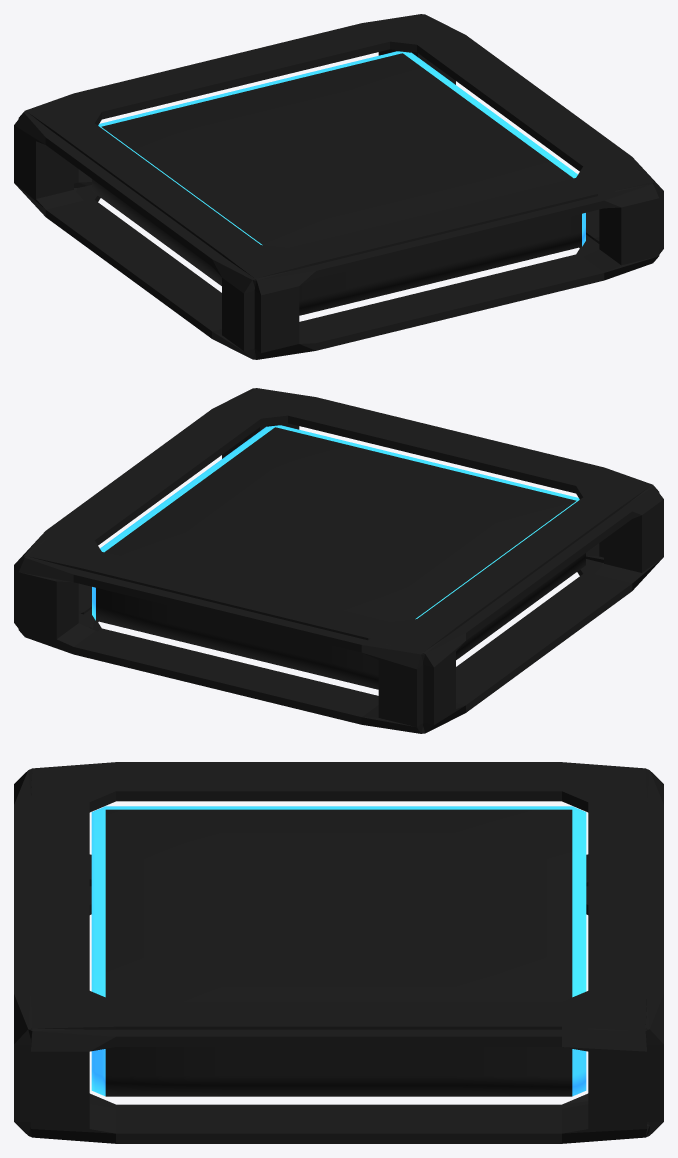
Rendered from black tile.fbx.
3 views of the same model, one above another, from view 1: azimuth 30°, elevation 25°; view 2: azimuth 150°, elevation 25°; view 3: azimuth 270°, elevation 25° (orthographic). The views are drawn at different scales.
Visible parts, largest first — view 1: black tile.001, black tile.000; view 2: black tile.001, black tile.000; view 3: black tile.000, black tile.001.
Boxes of the visible parts, x1,y1,x2,y2 form: black tile.001: (14,14,663,359); black tile.000: (92,51,585,315); black tile.001: (14,388,663,733); black tile.000: (92,425,585,689); black tile.000: (91,806,586,1096); black tile.001: (14,762,663,1143).
Bounding box in the file's own units: 501 × 96.11 × 501.
